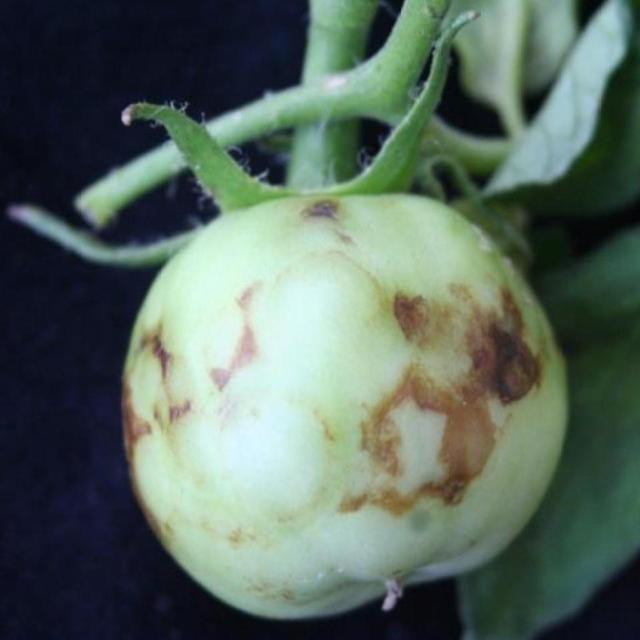Spotted wilt Virus Fruit: (73, 69, 181, 246)
